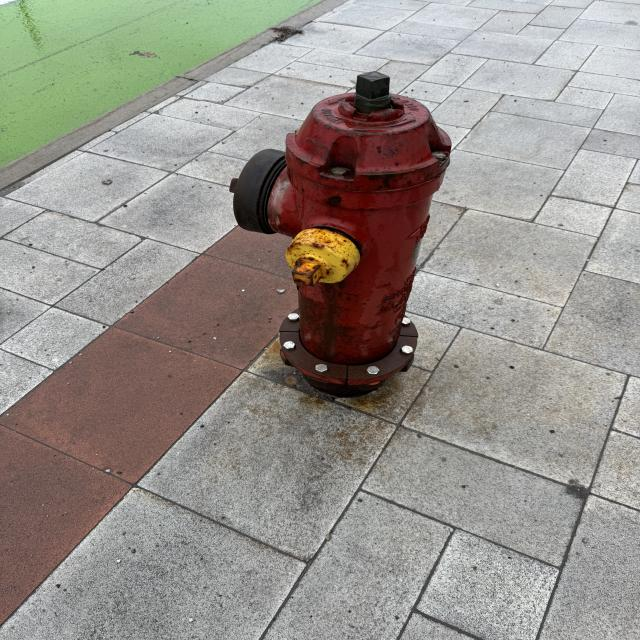Fire hydrant: (228, 71, 454, 388)
